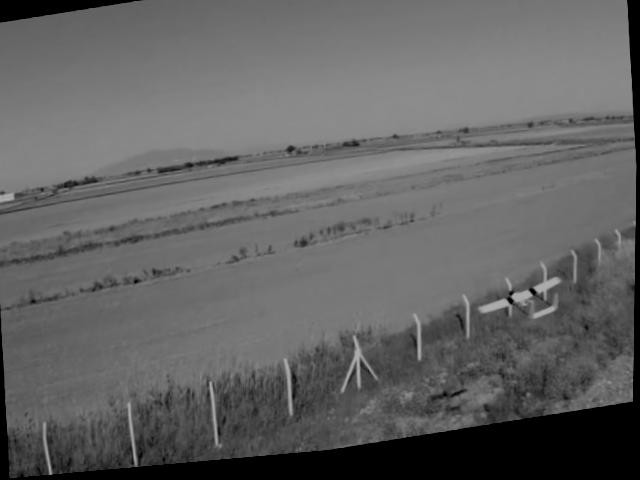hedef: (474, 276, 569, 342)
